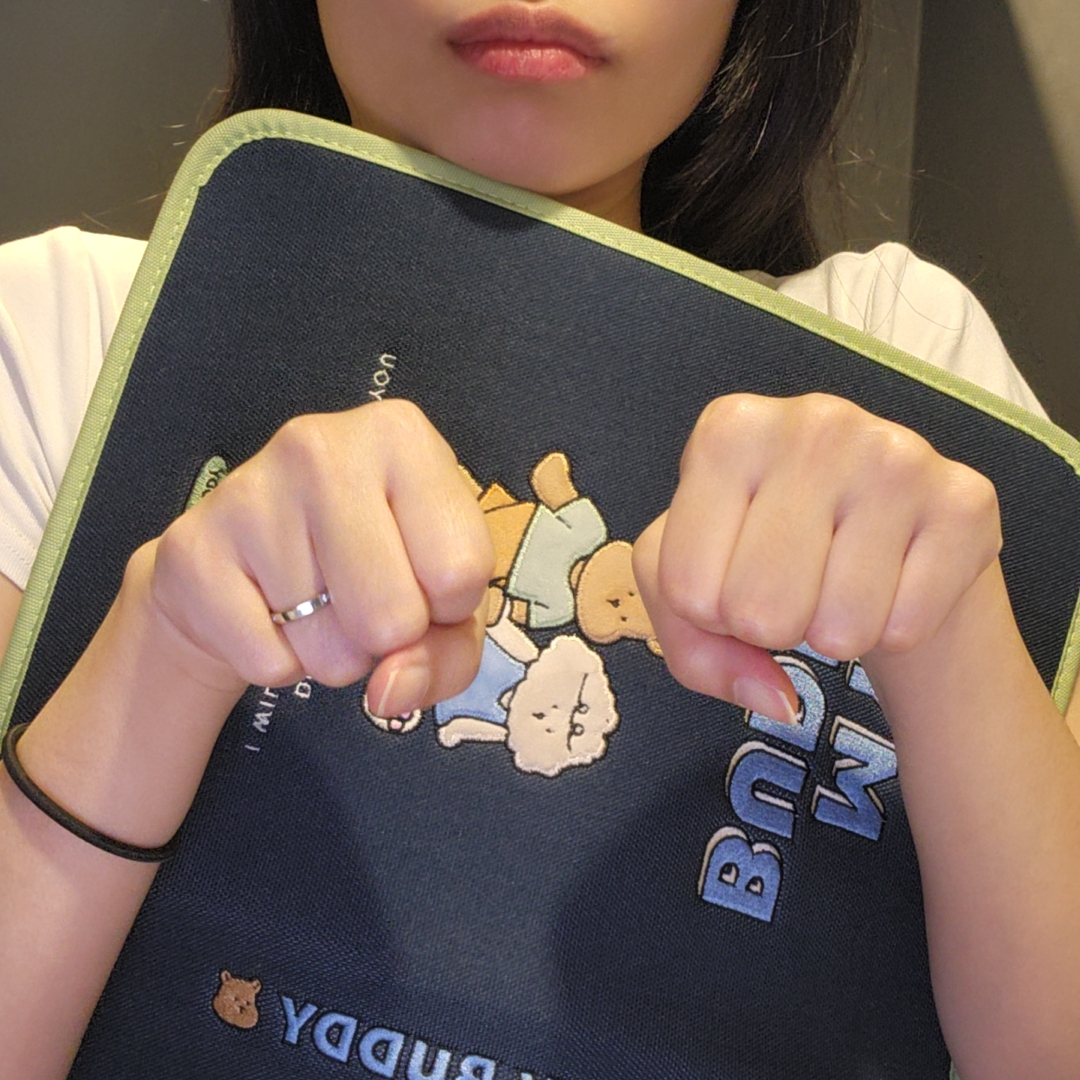hello: (158, 393, 1008, 724)
